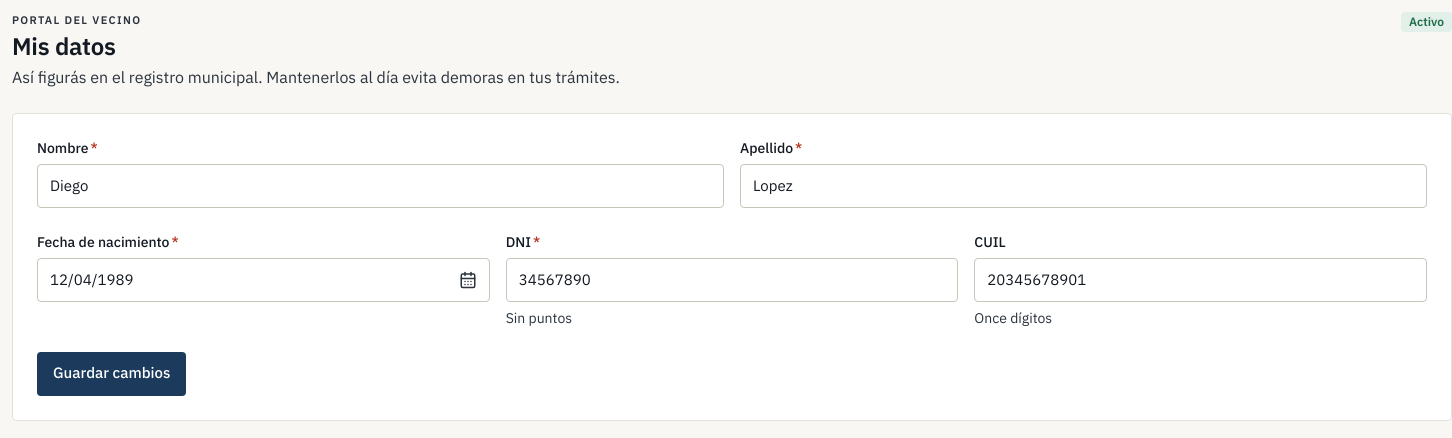
Test case: Perfil › confirma que se guardó
expect the field labelled "Nombre" is shown: met, box 37,164 -> 724,208
Click the button "Guardar cambios" at [112, 374], box 37,352 -> 186,396
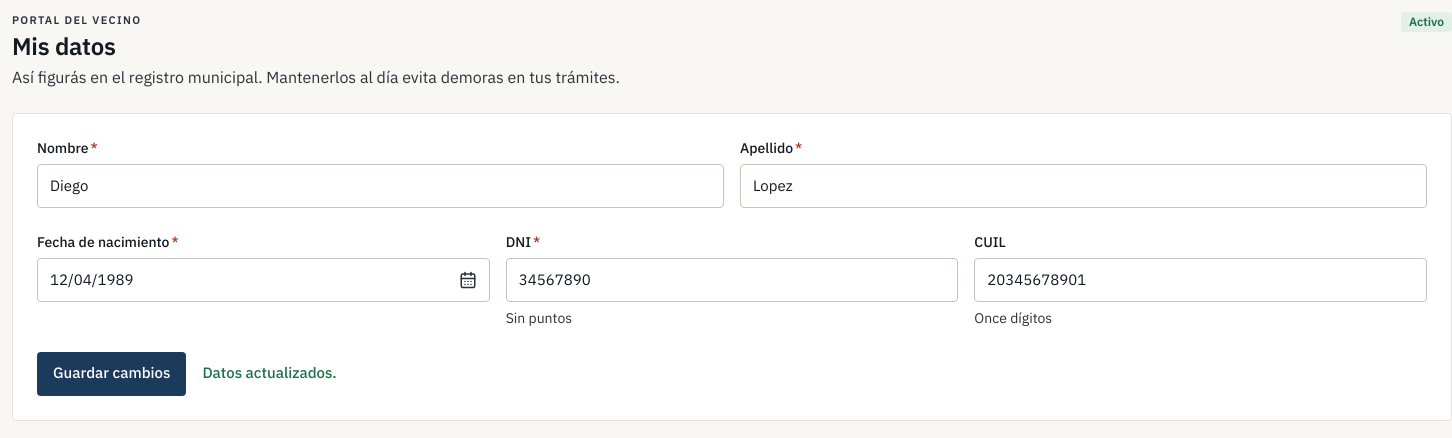
expect the text "Datos actualizados." is shown: met, box 202,362 -> 337,385
